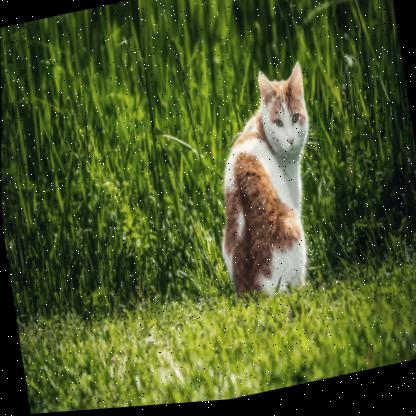cat: (204, 62, 331, 295)
